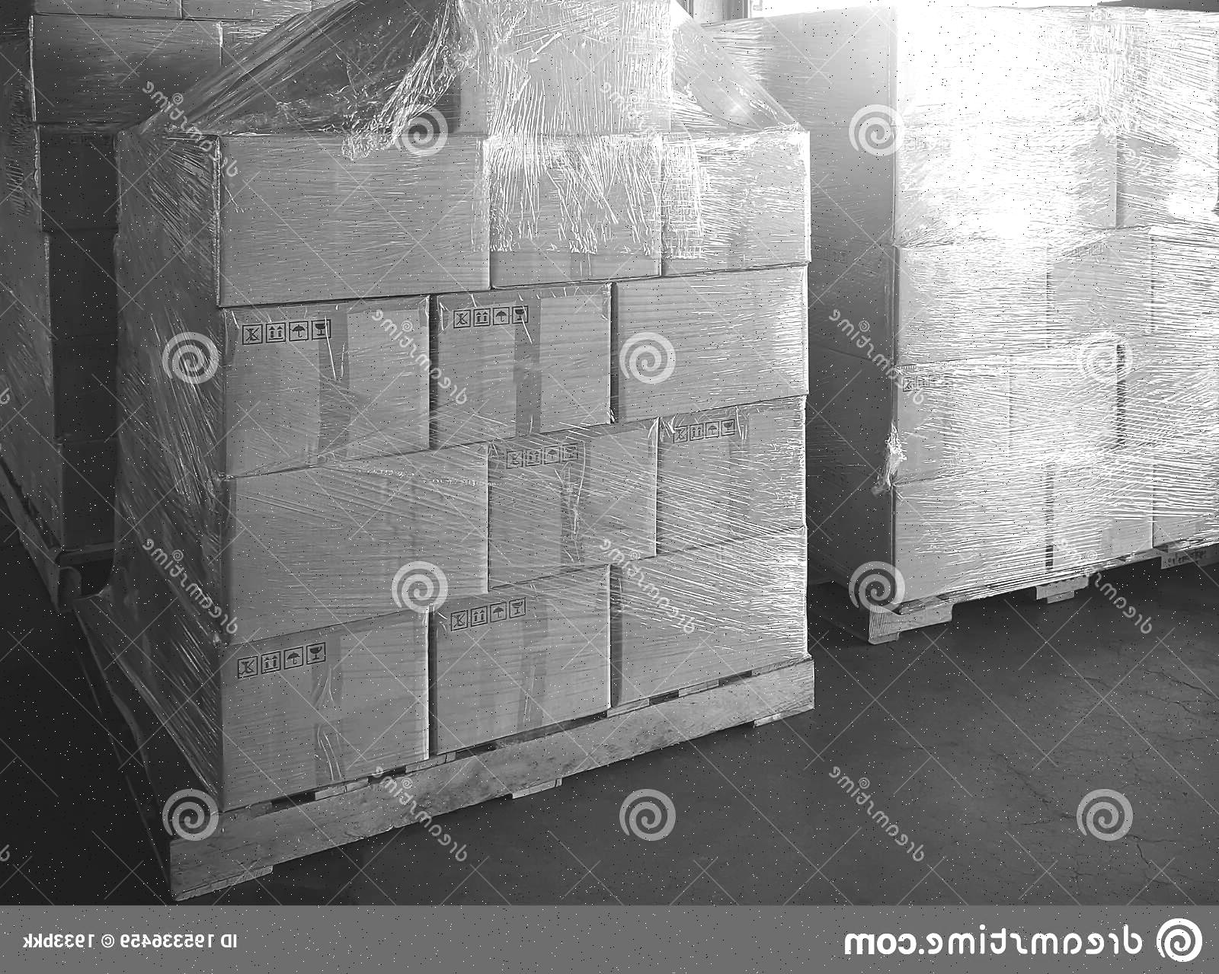Box: (110, 414, 489, 651), (117, 129, 490, 307), (124, 602, 429, 810), (581, 399, 805, 563), (610, 528, 807, 707), (807, 464, 1048, 607), (431, 566, 610, 754), (612, 264, 807, 421), (453, 0, 676, 137), (431, 283, 612, 447), (893, 119, 1117, 244), (807, 345, 1009, 483), (488, 133, 662, 288), (895, 7, 1114, 123), (712, 5, 899, 129), (657, 397, 805, 552), (28, 15, 220, 128), (662, 131, 809, 275), (0, 393, 116, 555), (895, 243, 1048, 363), (1, 285, 106, 446), (2, 192, 101, 344), (1095, 7, 1219, 124), (1009, 338, 1121, 458), (809, 105, 905, 242), (2, 107, 104, 233), (1048, 455, 1152, 569), (1048, 231, 1152, 340), (1124, 338, 1219, 445), (809, 243, 895, 358), (1117, 136, 1219, 226), (1152, 428, 1219, 545), (1150, 226, 1219, 336)
pallet: (169, 659, 814, 901), (809, 534, 1219, 644)
